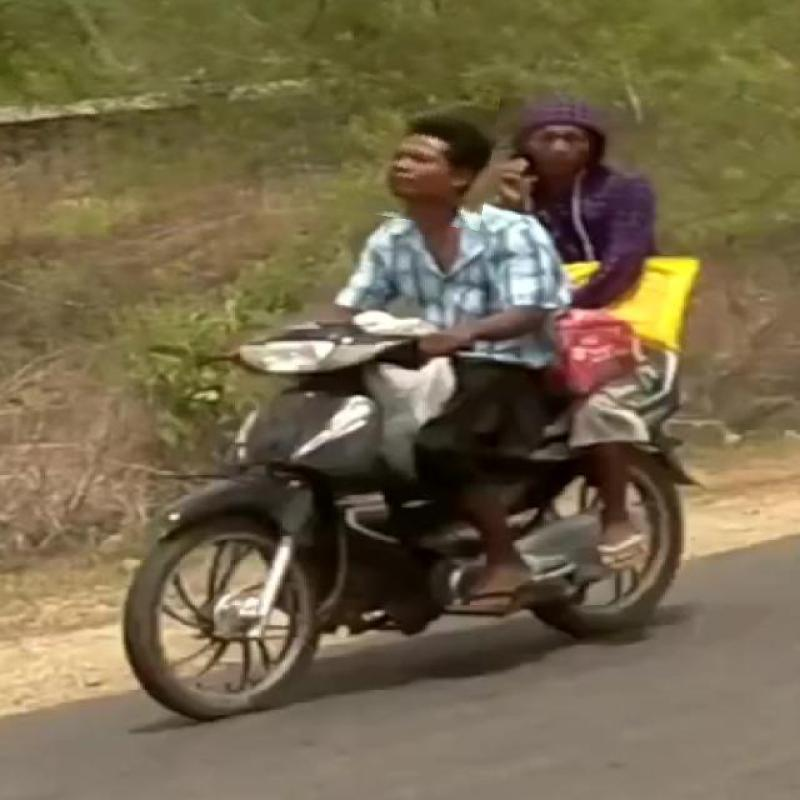nohelmet: (339, 78, 496, 226)
